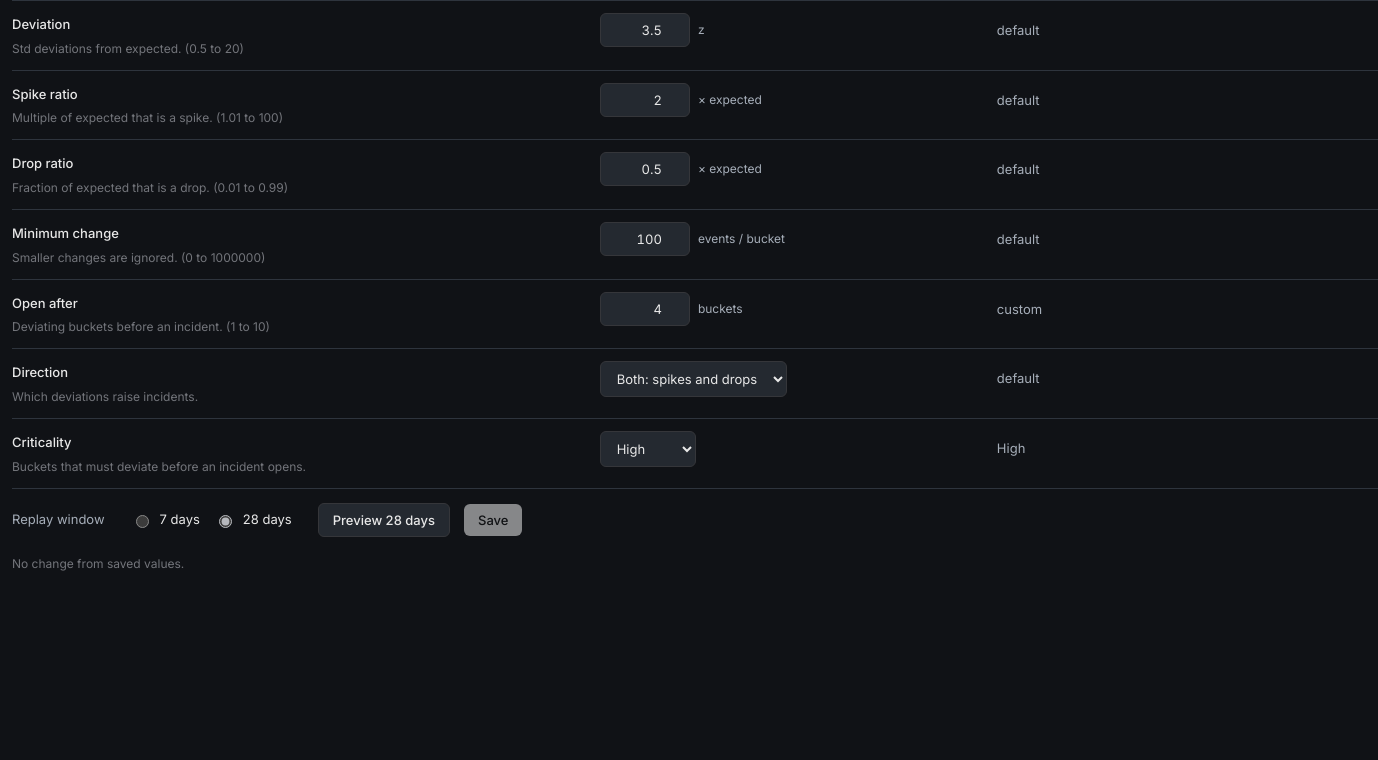
Scenario: the preview and criticality › omits criticality when it equals the stored value
The image size is (1378, 760).
Replace the text in the number field labelled "Deviation" with "4.5" at (645, 30), box [600,13,690,47]
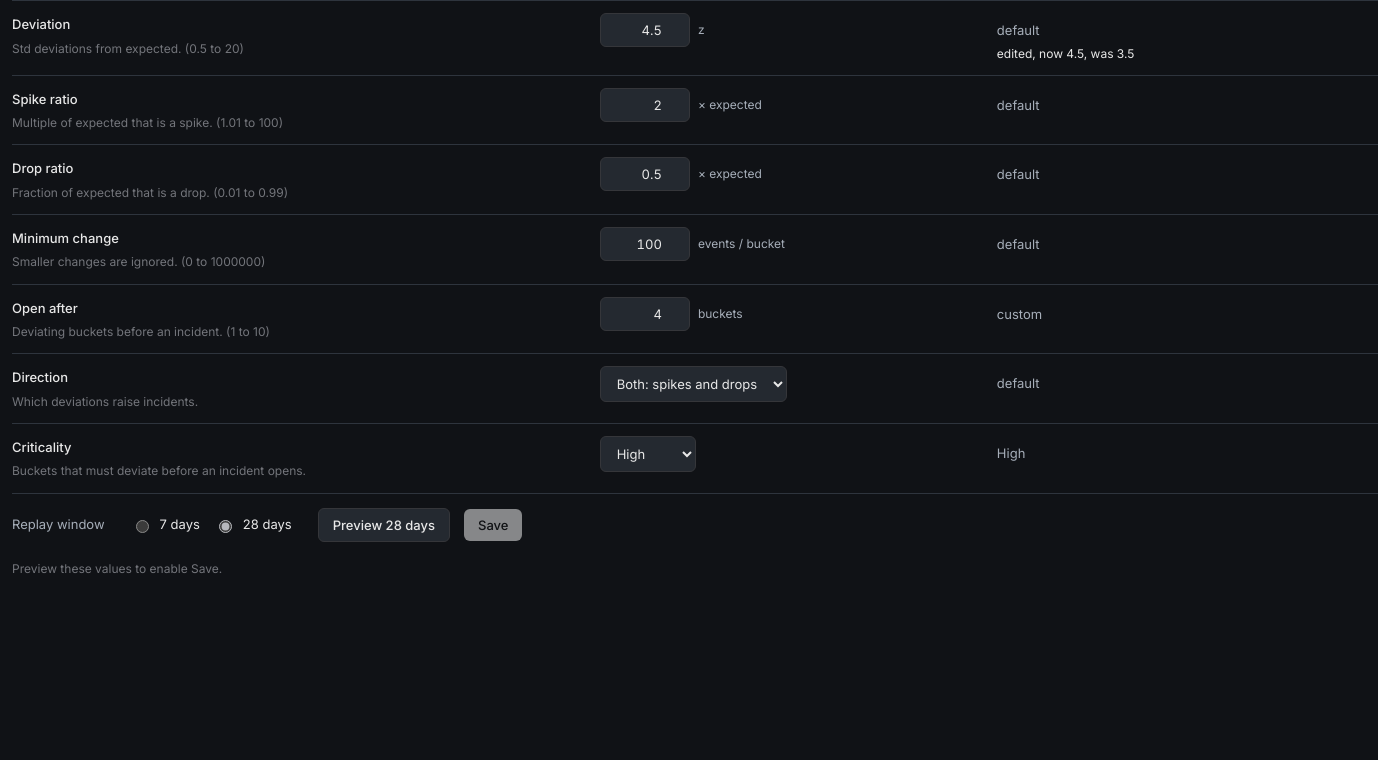
Click the button "Preview 28 days" at (384, 525), box [318,508,450,542]
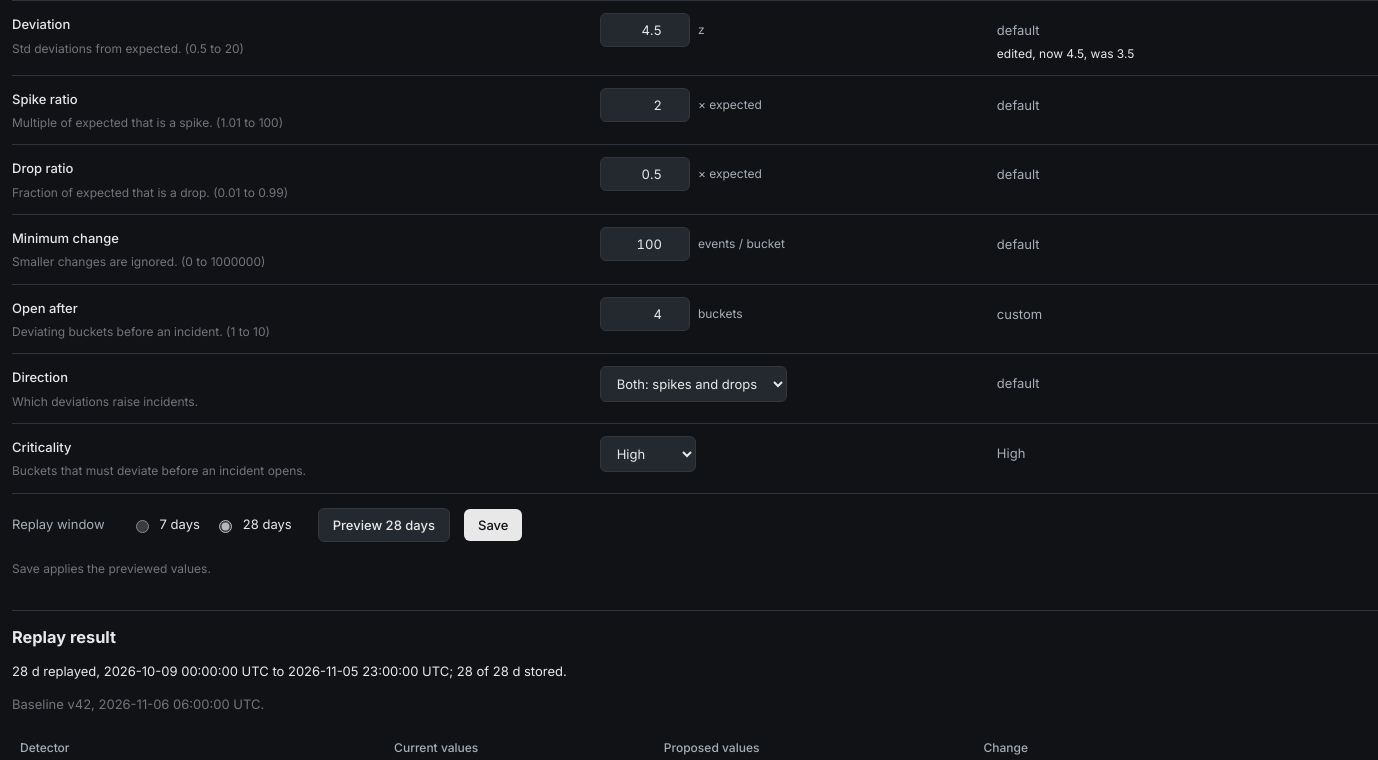
Expected: the heading "Replay result" is shown, [12,627,116,647]
